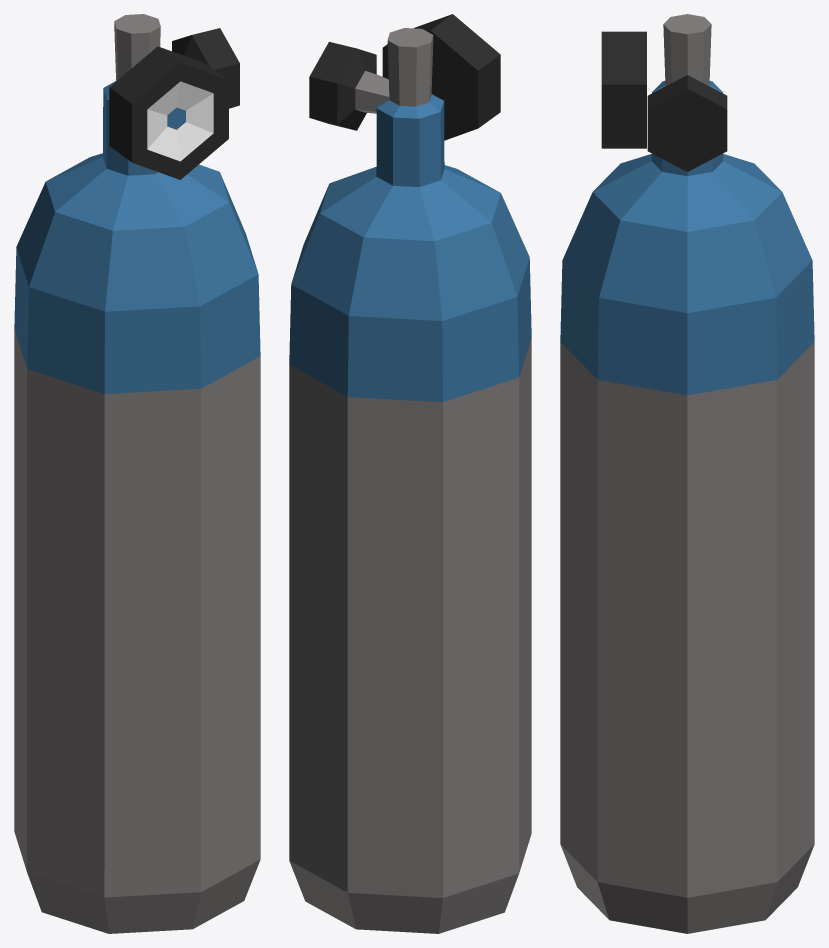
File: oxygen-cylinder.glb
The picture shows the model from 3 angles, left to right: view 1: azimuth 30°, elevation 25°; view 2: azimuth 150°, elevation 25°; view 3: azimuth 270°, elevation 25°; orthographic projection.
Parts seen in each view (by area): view 1: oxygen-cylinder; view 2: oxygen-cylinder; view 3: oxygen-cylinder.
Boxes of the visible parts, x1,y1,x2,y2 form: oxygen-cylinder: (14, 14, 260, 933); oxygen-cylinder: (289, 14, 531, 933); oxygen-cylinder: (560, 14, 814, 933).
Bounding box in the file's own units: 0.2521 × 0.9436 × 0.2521.
1 material, 1 textured.
